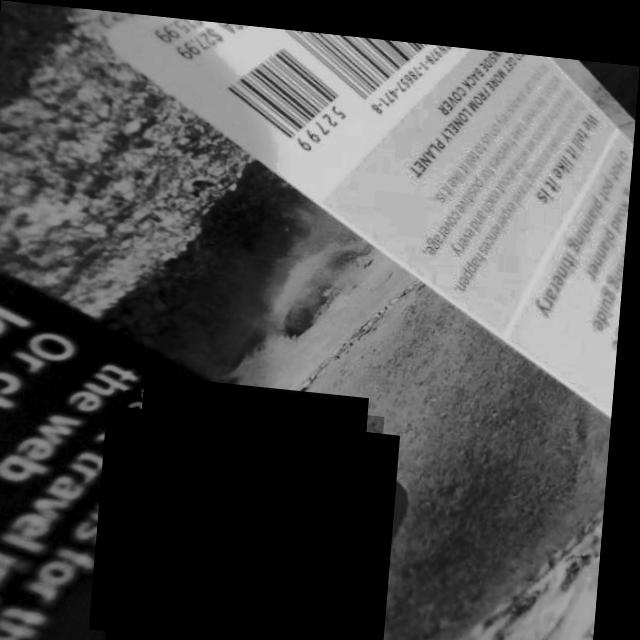qr_code: (114, 387, 390, 640)
